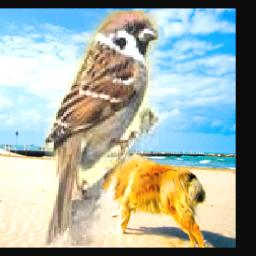Sparrow: (45, 10, 158, 246)
